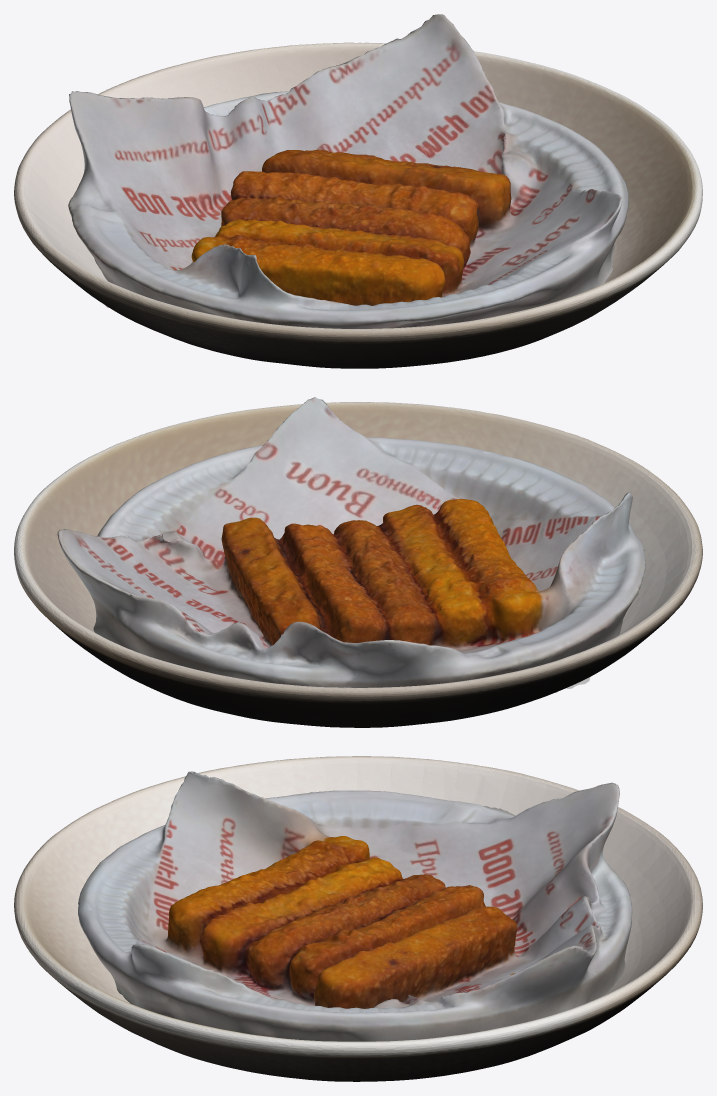
File: stick.glb
3 renders of one model, top to bottom at view 1: azimuth 30°, elevation 25°; view 2: azimuth 150°, elevation 25°; view 3: azimuth 270°, elevation 25°, orthographic.
Visible parts, largest first — view 1: 3DModel, world; view 2: 3DModel, world; view 3: 3DModel, world.
Part boxes in pixels (x1,y1,x2,y2): 3DModel: (68,14,628,328); world: (14,42,702,368); 3DModel: (57,397,645,692); world: (14,402,702,727); 3DModel: (78,771,632,1041); world: (14,756,702,1081).
Bounding box in the file's own units: 0.2353 × 0.0509 × 0.2353.
Materials: 2 (2 with a texture image).
